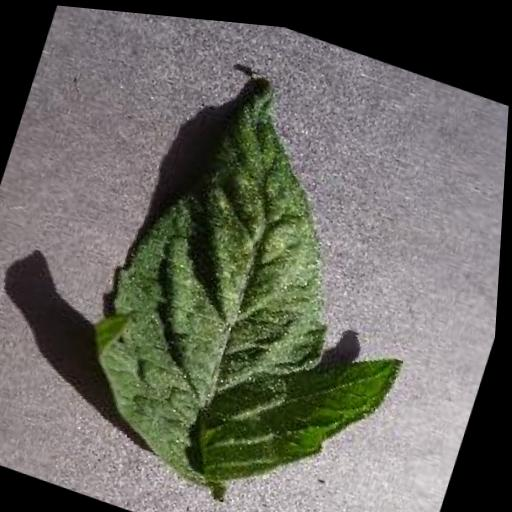Spider Mites: (67, 33, 474, 512)
